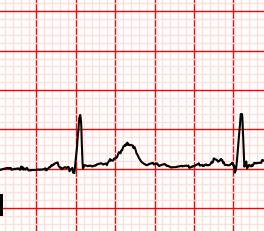LVH: (100, 139, 163, 171)
